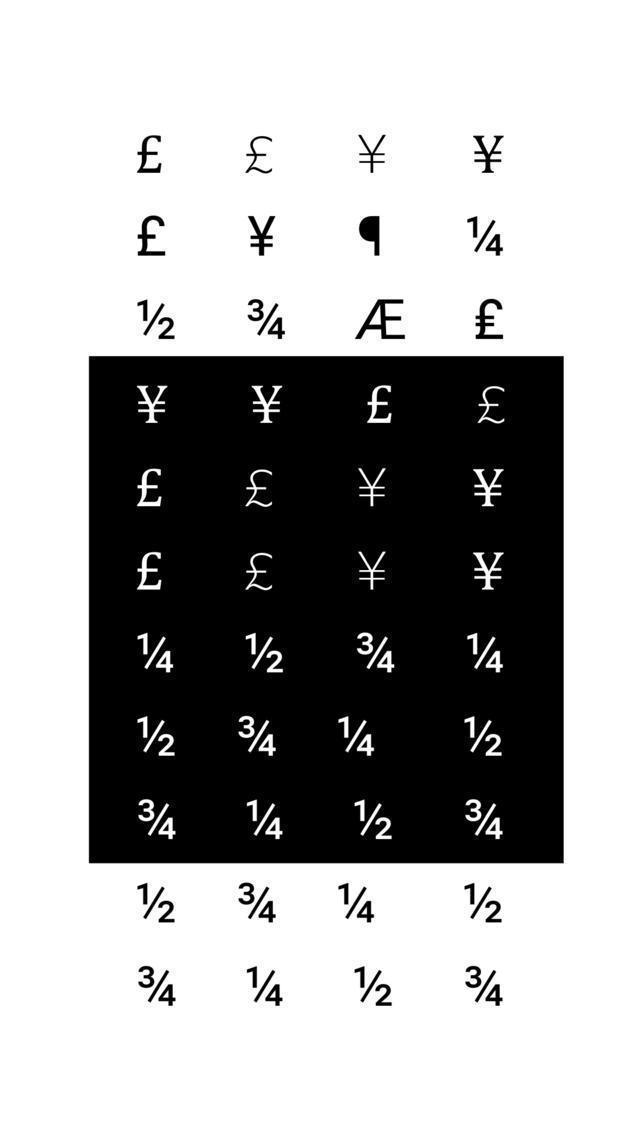ASCII: (352, 294, 412, 346), (230, 872, 284, 928), (460, 958, 509, 1014), (133, 872, 181, 928), (332, 712, 384, 763), (134, 293, 178, 353), (130, 793, 183, 842), (460, 712, 508, 766), (241, 628, 290, 680), (130, 626, 178, 679), (134, 958, 180, 1013), (464, 211, 508, 268), (468, 122, 509, 183), (351, 960, 397, 1014), (240, 292, 288, 343), (463, 629, 511, 680), (470, 288, 510, 348), (465, 462, 512, 512), (128, 380, 174, 430), (352, 629, 398, 679), (239, 796, 289, 842), (464, 873, 505, 929), (242, 960, 286, 1012), (352, 459, 396, 511), (134, 208, 172, 268), (238, 548, 283, 598), (352, 124, 392, 180), (135, 714, 181, 762), (335, 878, 377, 930), (470, 542, 508, 598), (236, 466, 282, 512), (236, 712, 280, 760), (243, 208, 279, 266), (463, 797, 507, 844), (125, 463, 168, 511), (240, 126, 277, 181), (130, 548, 172, 595), (130, 128, 166, 181), (355, 545, 392, 596), (354, 797, 394, 844), (251, 382, 286, 429), (354, 207, 384, 260), (474, 382, 504, 430), (366, 382, 396, 428)
